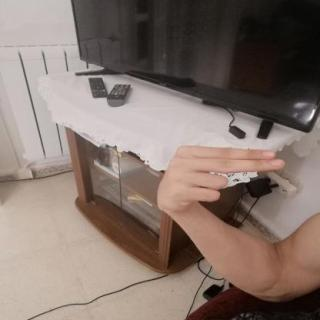AYN: (145, 138, 292, 225)
